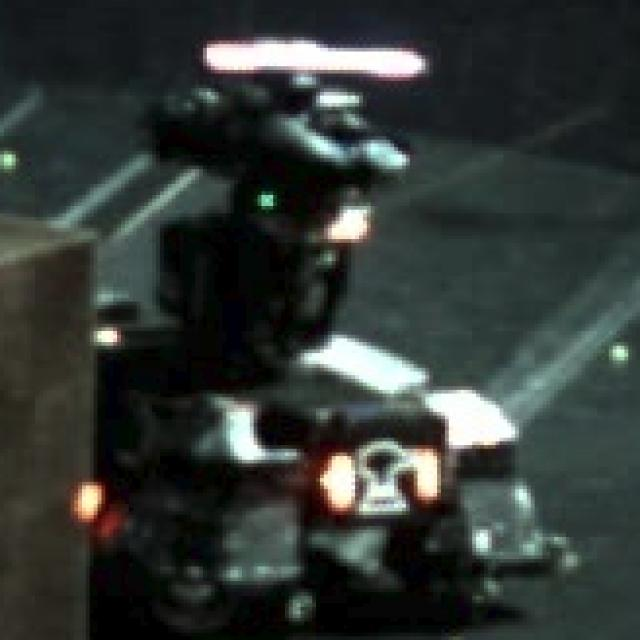Rs: (320, 445, 445, 508)
